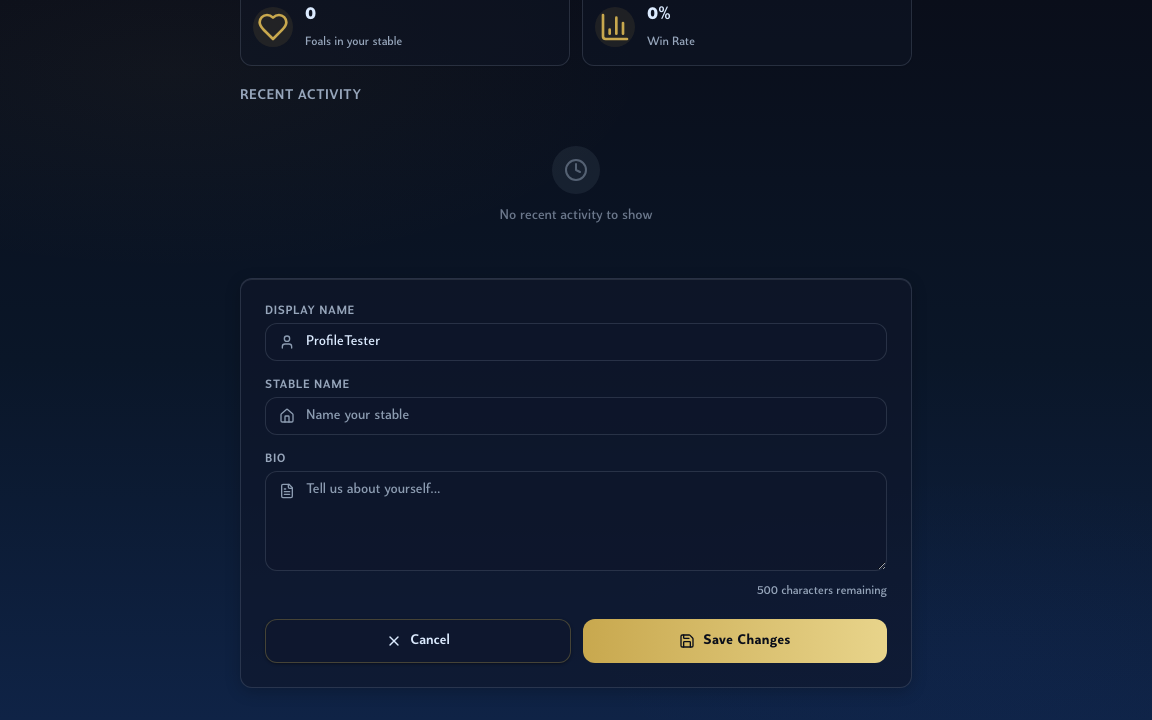
it: ProfilePage — the stable name (Equoria-kgush) › shows the failure at the form when the save is refused, and keeps what she typed
This screenshot has width=1152, height=720.
(page scrolled)
Type "Starlight Farm" into the field labelled "Stable Name" at (576, 416), box [265, 397, 887, 435]
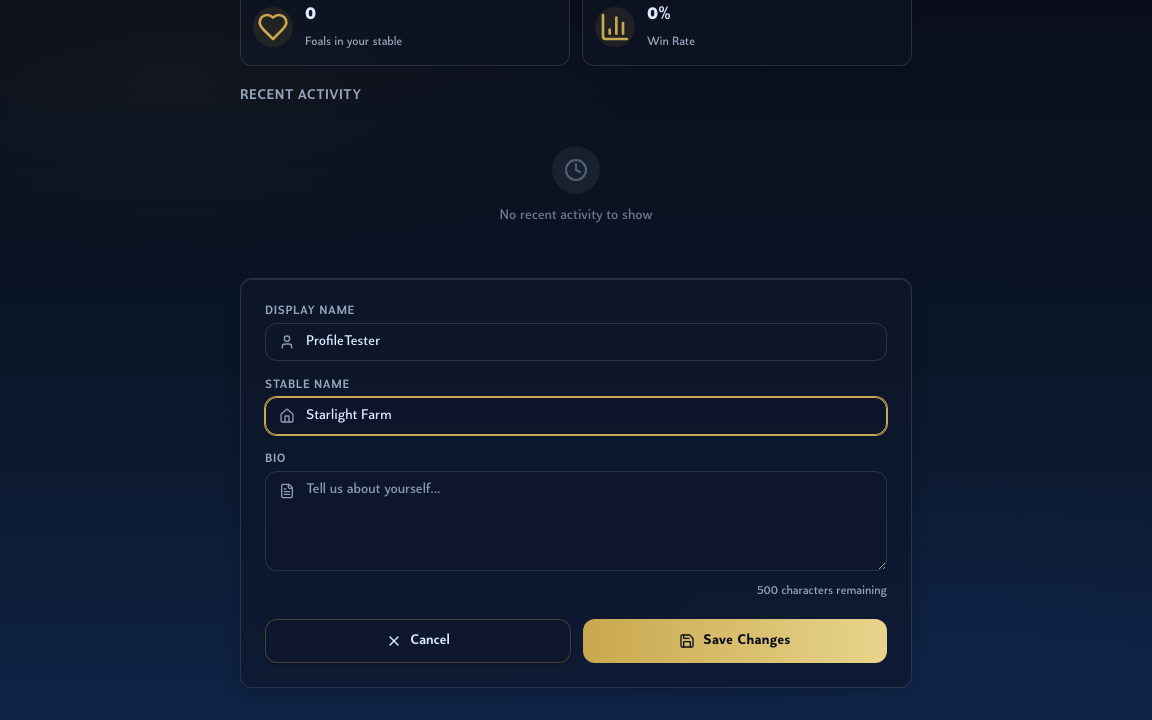
Click the button "Save Changes" at (735, 641), box [583, 619, 887, 663]
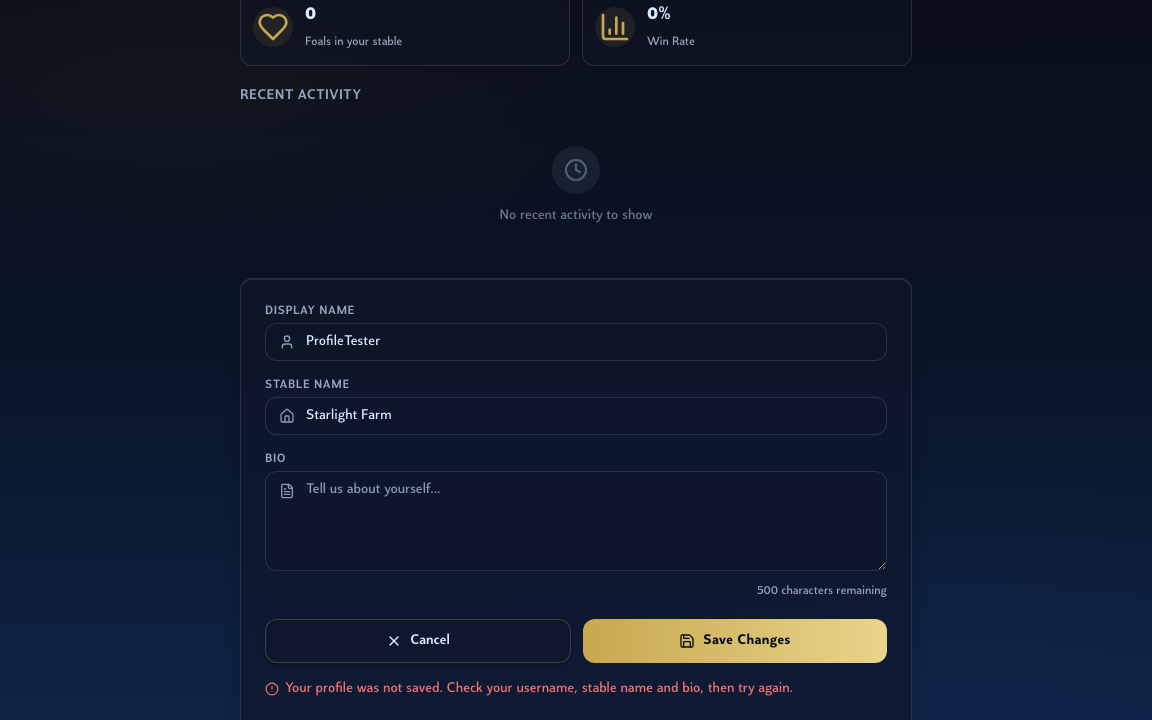
Now the text "Your profile was not saved" is shown, box [285, 681, 793, 696]
